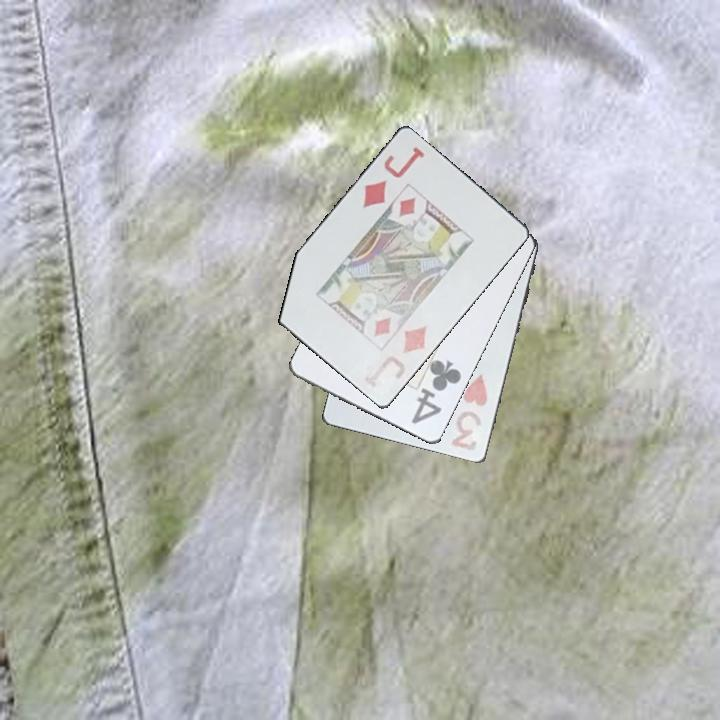3h: (448, 371, 491, 454)
4c: (408, 357, 465, 427)
Jd: (361, 322, 430, 395), (359, 143, 428, 212)
